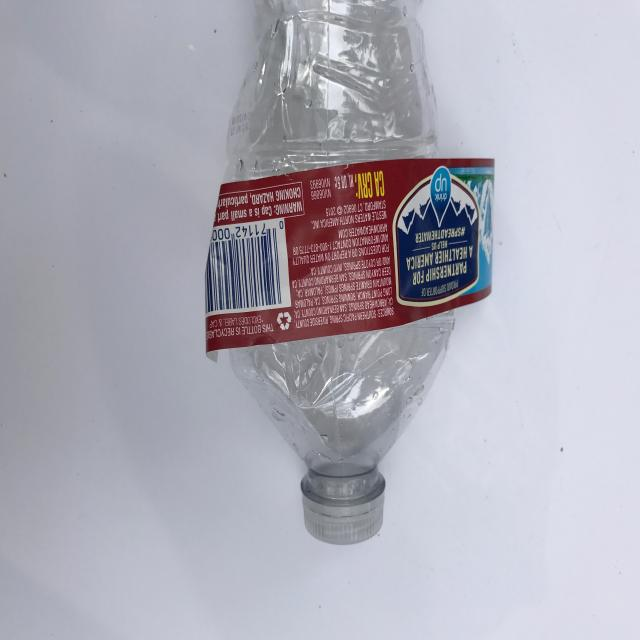plastic: (204, 0, 488, 544)
